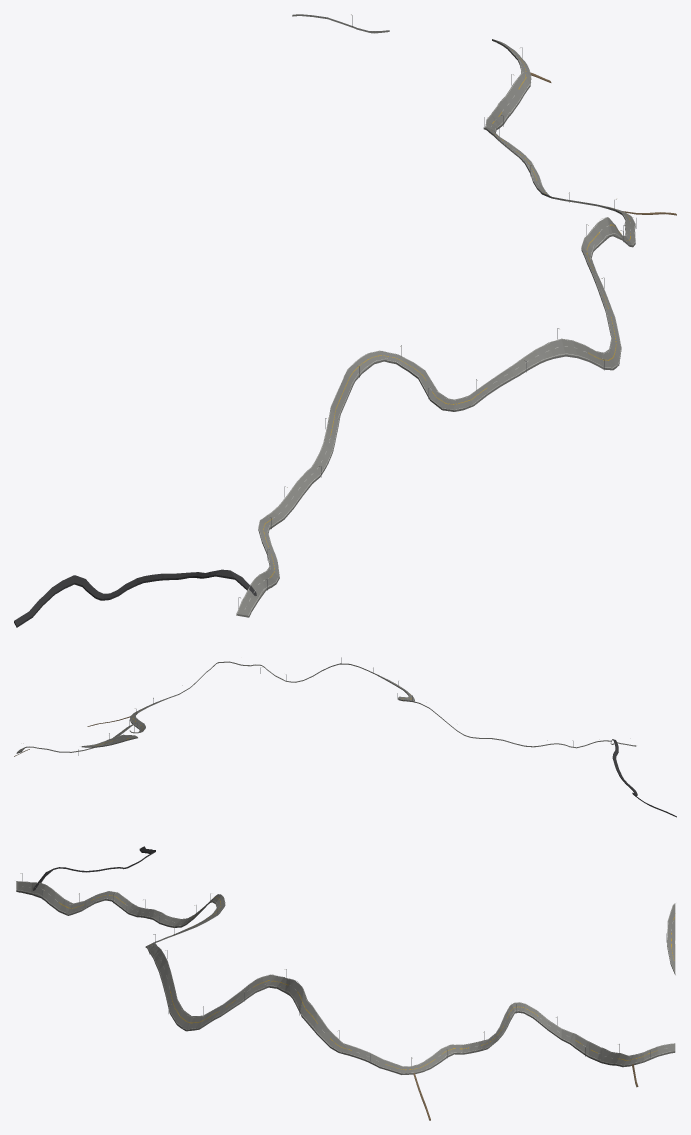
The picture shows the model from 3 angles, top to bottom: view 1: azimuth 30°, elevation 25°; view 2: azimuth 150°, elevation 25°; view 3: azimuth 270°, elevation 25°; orthographic projection. The views are drawn at different scales.
Size of the model in its own units: 586 by 154 by 488.
